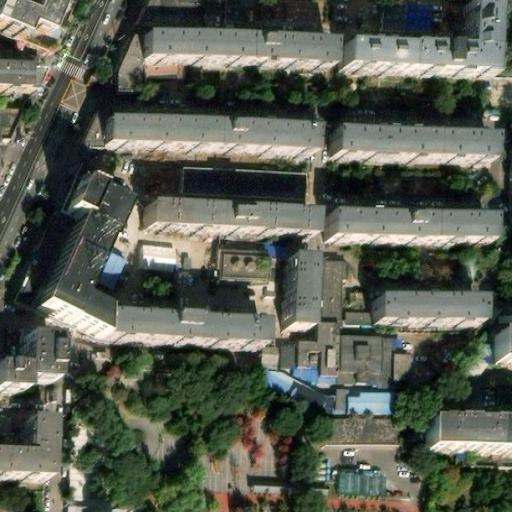building: (40, 179, 122, 333), (101, 114, 311, 150), (141, 33, 334, 72), (113, 301, 272, 342), (139, 198, 312, 233), (328, 208, 491, 245), (330, 125, 489, 162), (183, 164, 308, 206), (30, 209, 79, 307), (0, 335, 56, 398), (0, 420, 53, 481), (372, 296, 480, 323), (341, 336, 394, 390), (292, 319, 344, 372), (428, 424, 512, 456), (319, 413, 404, 444), (286, 256, 317, 329), (216, 247, 271, 281), (314, 257, 343, 320), (335, 387, 392, 416), (96, 251, 129, 293), (337, 469, 386, 497), (488, 319, 512, 366), (141, 243, 179, 271), (0, 64, 31, 94), (68, 468, 87, 503)
